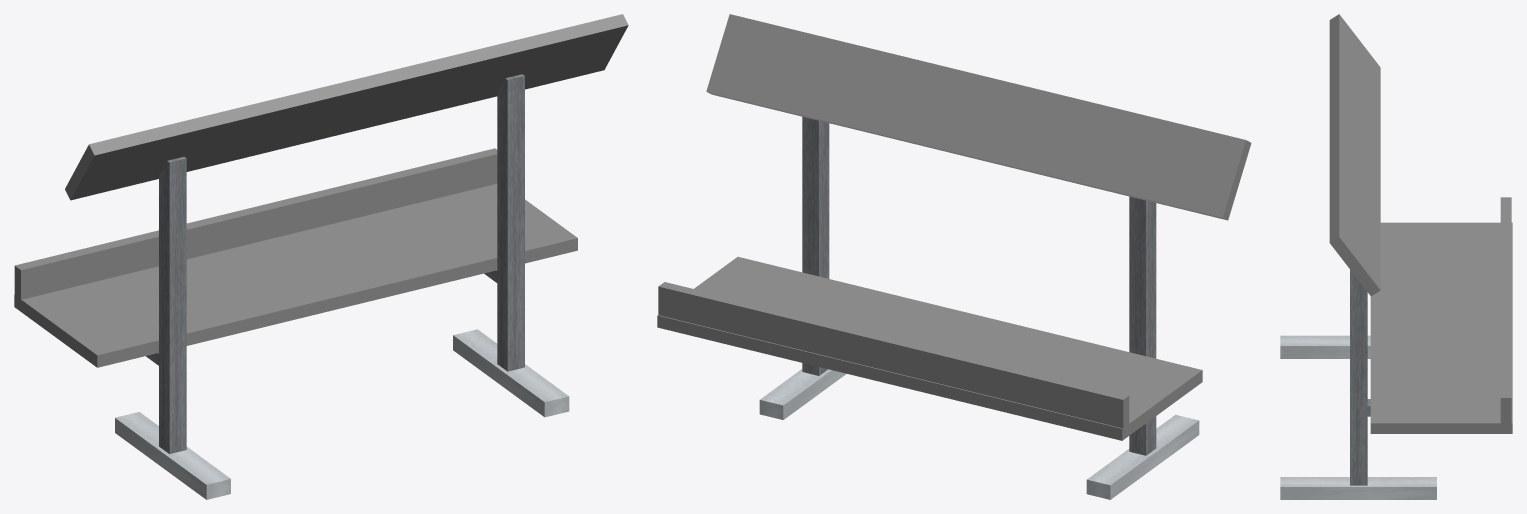
File: racks.FBX
3 renders of one model, left to right at view 1: azimuth 30°, elevation 25°; view 2: azimuth 150°, elevation 25°; view 3: azimuth 270°, elevation 25°, orthographic. The views are drawn at different scales.
Visible parts, largest first — view 1: Box007; view 2: Box007; view 3: Box007.
Boxes of the visible parts, left/top/right/bottom form: Box007: left=14, top=14, right=628, bottom=499; Box007: left=657, top=14, right=1251, bottom=499; Box007: left=1280, top=14, right=1512, bottom=499.
Bounding box in the file's own units: 214 × 134 × 94.15.
Materials: 3 (2 with a texture image).
